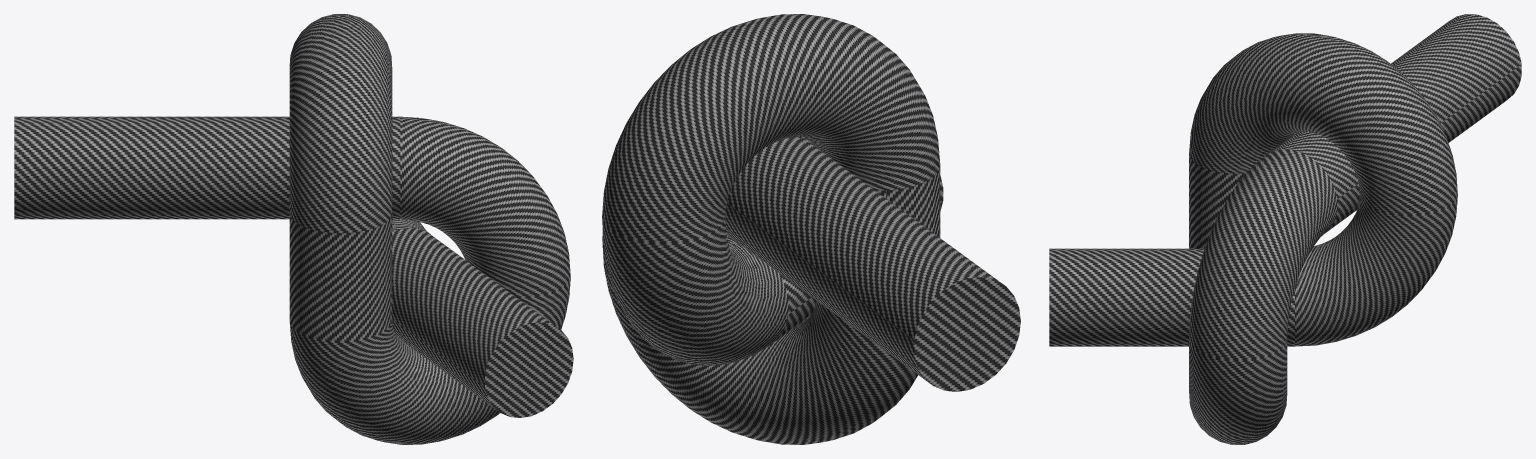
Rendered from twisted_rope_knot.glb.
The picture shows the model from 3 angles, left to right: view 1: azimuth 30°, elevation 25°; view 2: azimuth 150°, elevation 25°; view 3: azimuth 270°, elevation 25°; orthographic projection. The views are drawn at different scales.
Visible parts, largest first — view 1: Solid1_0; view 2: Solid1_0; view 3: Solid1_0.
Boxes of the visible parts, <box> form: Solid1_0: <box>14,14,573,444</box>; Solid1_0: <box>602,14,1020,444</box>; Solid1_0: <box>1049,14,1521,444</box>.
Bounding box in the file's own units: 0.1999 × 0.166 × 0.1922.
1 material, 1 textured.
